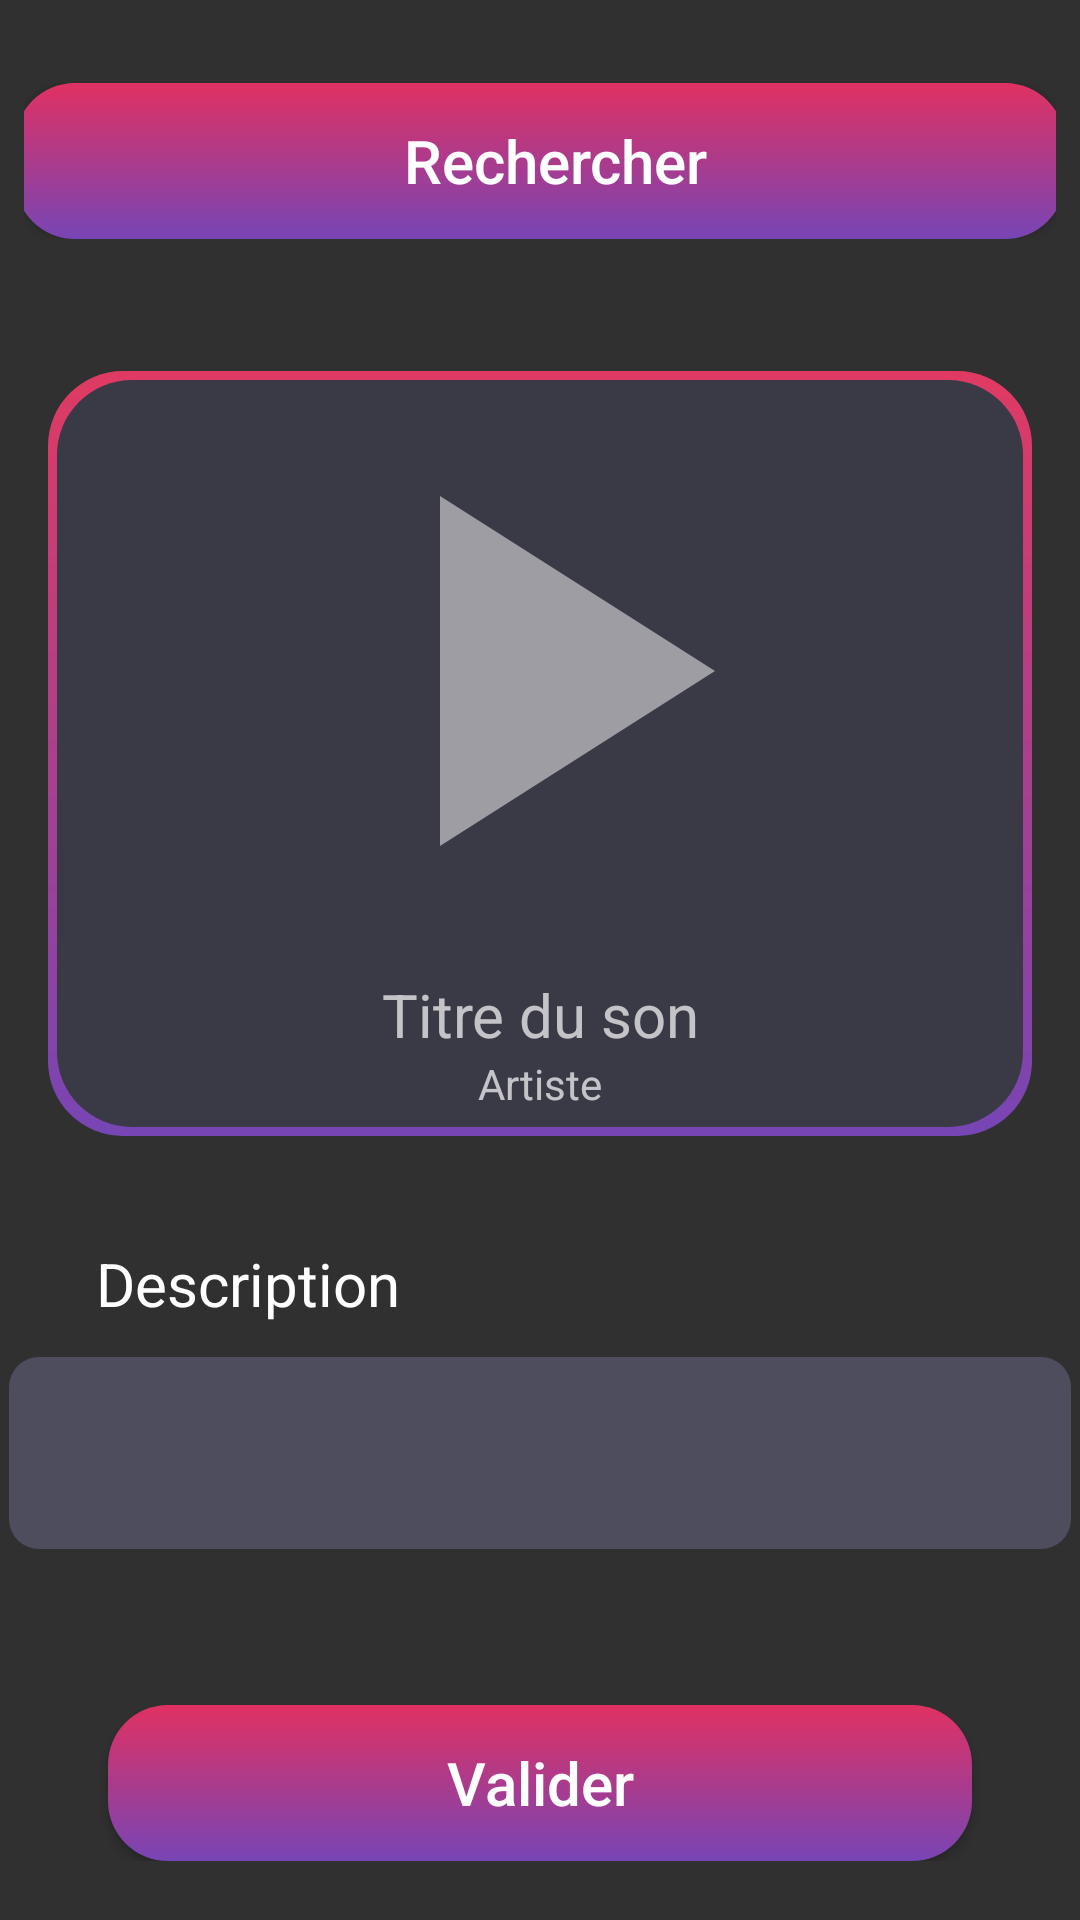

Icons on this 1080w x 1920h Android screen, each with its box as detection(x1, y1, x2, y2):
play: detection(440, 496, 715, 846)
